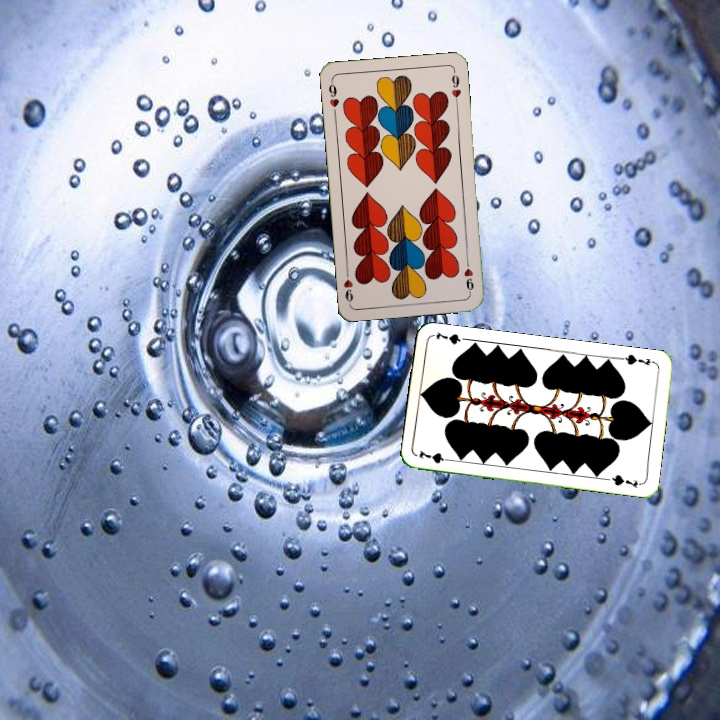G7: (415, 446, 455, 466), (617, 350, 657, 368)
H9: (324, 77, 341, 117), (460, 255, 476, 296)
